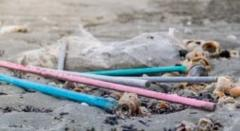general: (0, 60, 216, 112), (0, 70, 118, 111), (48, 69, 152, 89), (88, 65, 187, 75), (144, 75, 219, 82)
